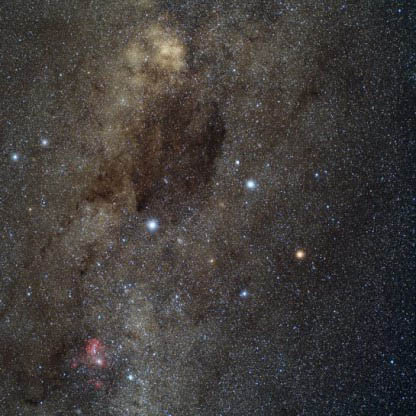Southern Cross: (290, 239, 319, 267), (139, 211, 164, 242), (231, 278, 259, 303), (239, 172, 263, 197)
